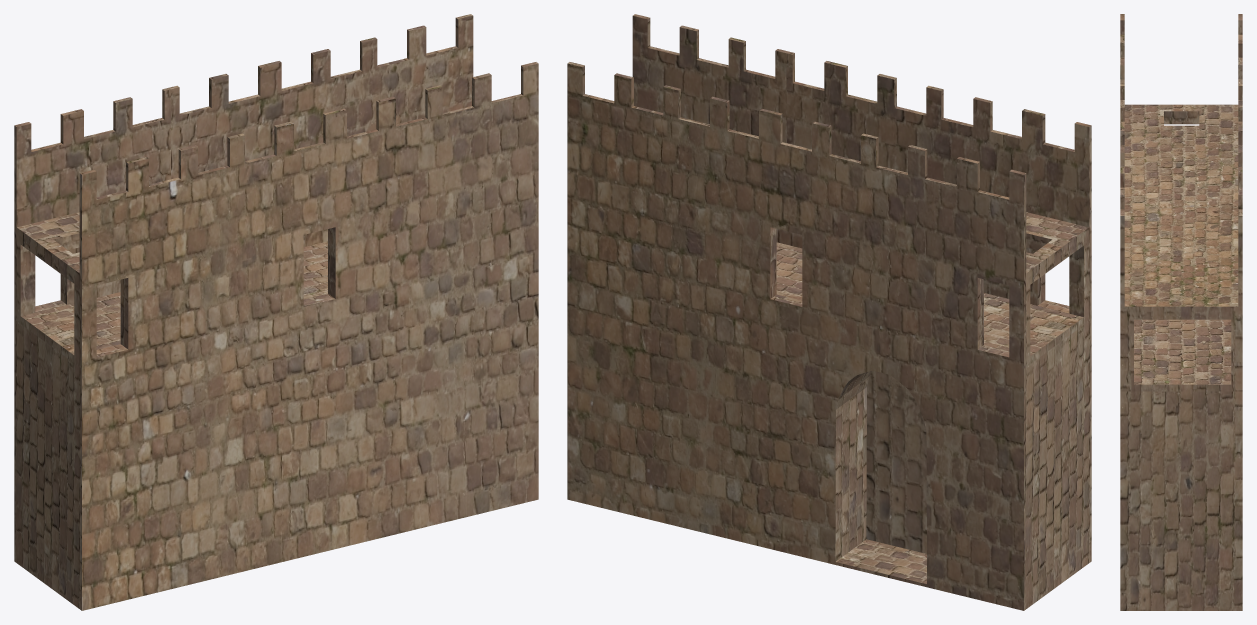
File: WallMiddle.fbx
3 views of the same model, side by side, from view 1: azimuth 30°, elevation 25°; view 2: azimuth 150°, elevation 25°; view 3: azimuth 270°, elevation 25° (orthographic). The views are drawn at different scales.
Visible parts, largest first — view 1: WallMiddle; view 2: WallMiddle; view 3: WallMiddle.
Part boxes in pixels (box(x1,y1,x2,y2)): WallMiddle: box(14, 14, 538, 610); WallMiddle: box(567, 14, 1091, 610); WallMiddle: box(1120, 14, 1242, 610).
Bounding box in the file's own units: 1304 × 1190 × 335.
